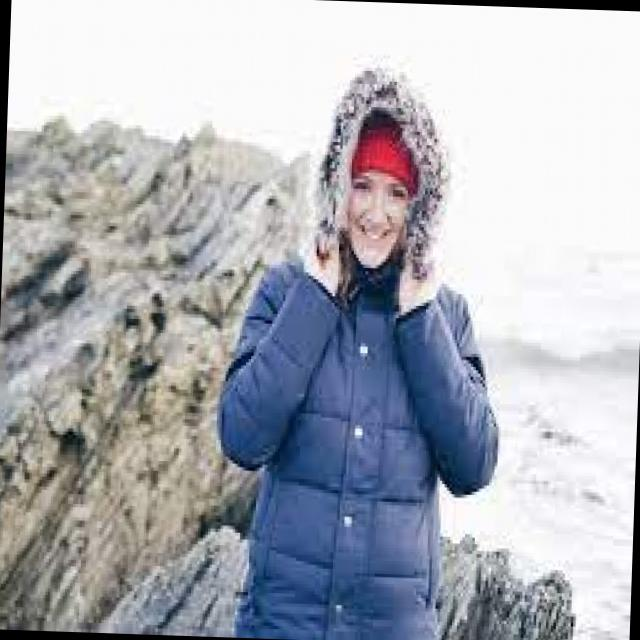Jacket: (199, 255, 516, 640)
